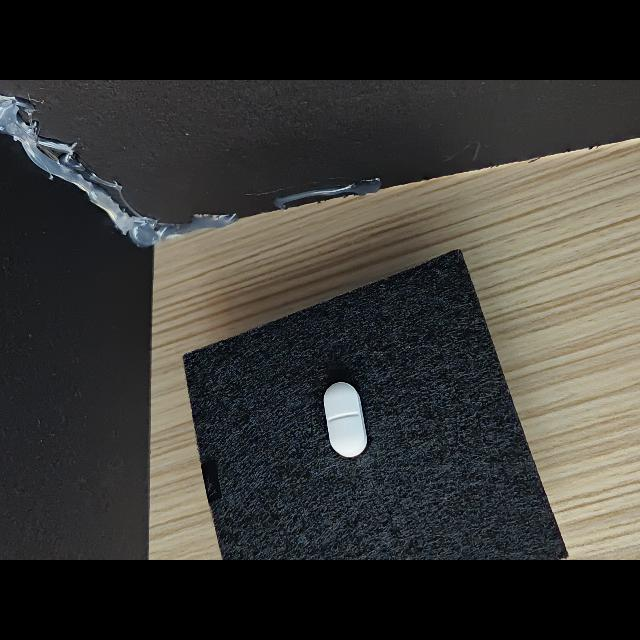Intact Pill: (324, 382, 367, 457)
